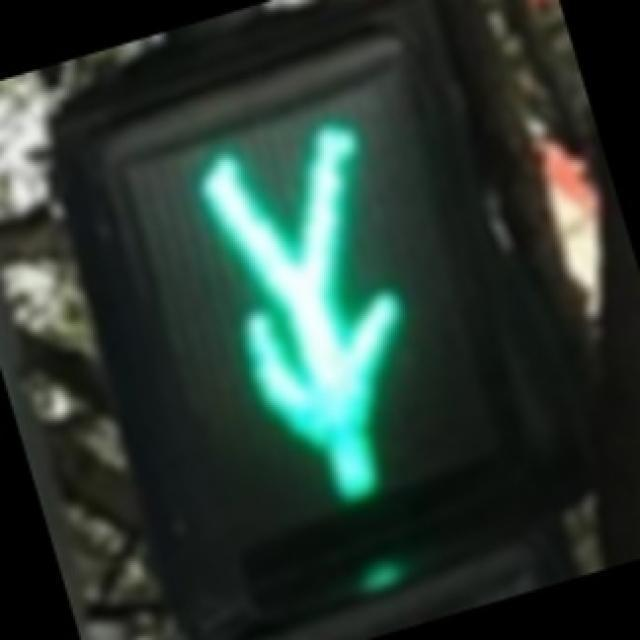geen-crossing: (112, 69, 520, 563)
